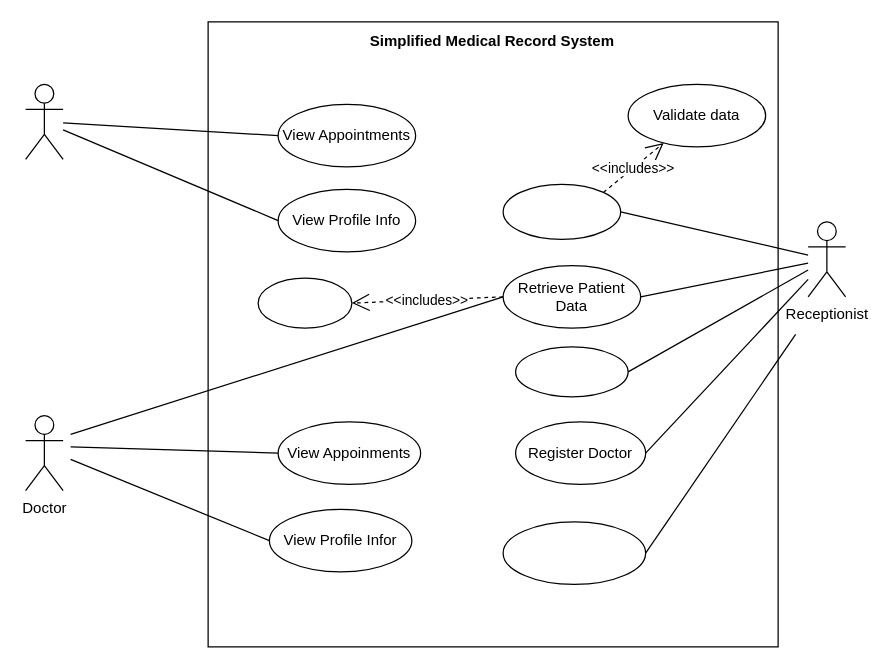
This 890x669 diagram has some shape labels left out. The shapes that lost their labels are listed below. From the top down, each one's centre as x and y in pixels, then its label:
the point at 43,121: Patient
the point at 561,211: Register Patient
the point at 304,302: Update Patient Data
the point at 571,371: Schedule Appointment
the point at 574,552: Retrieve Doctor Info
